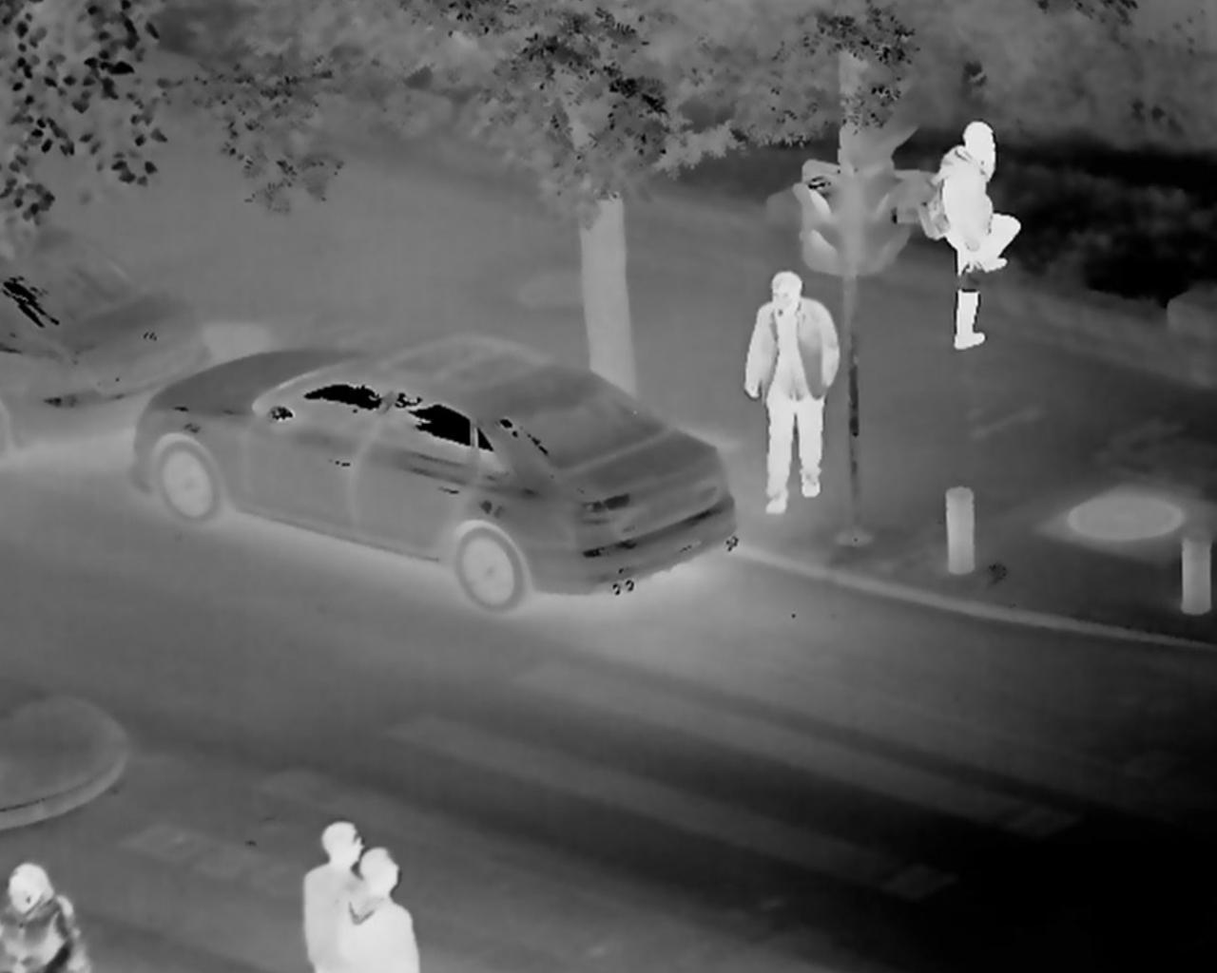person: (733, 272, 852, 523), (926, 113, 1023, 359), (278, 825, 355, 973), (2, 864, 86, 973), (347, 851, 417, 973)
